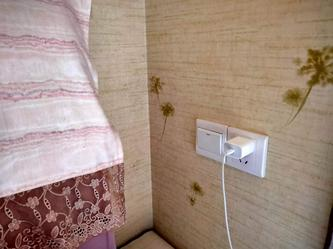switch: (194, 124, 223, 157)
